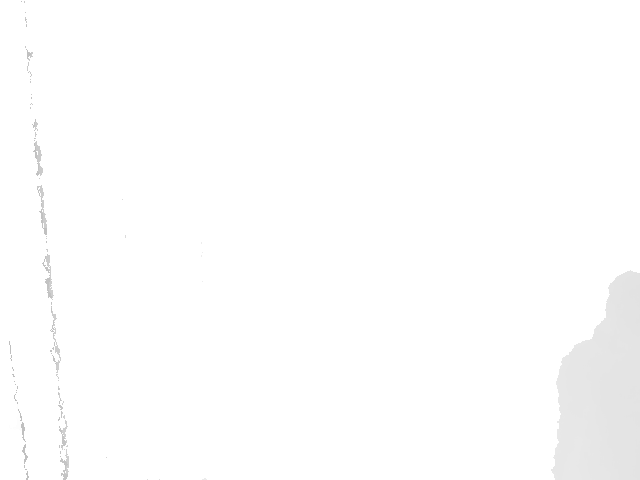head: (603, 271, 640, 336)
person: (550, 270, 640, 480)
